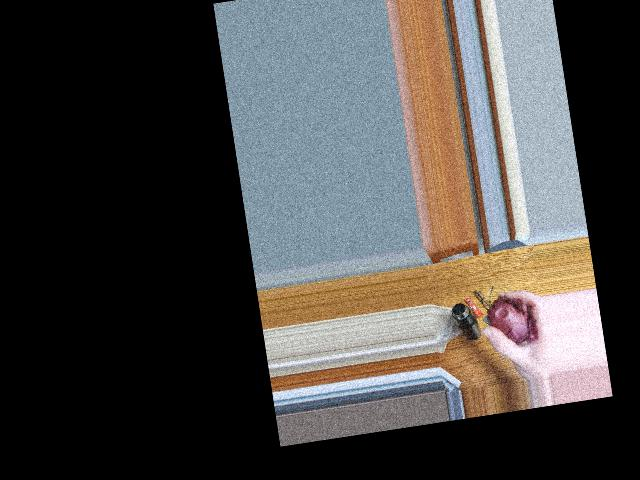onion: (486, 294, 535, 352)
